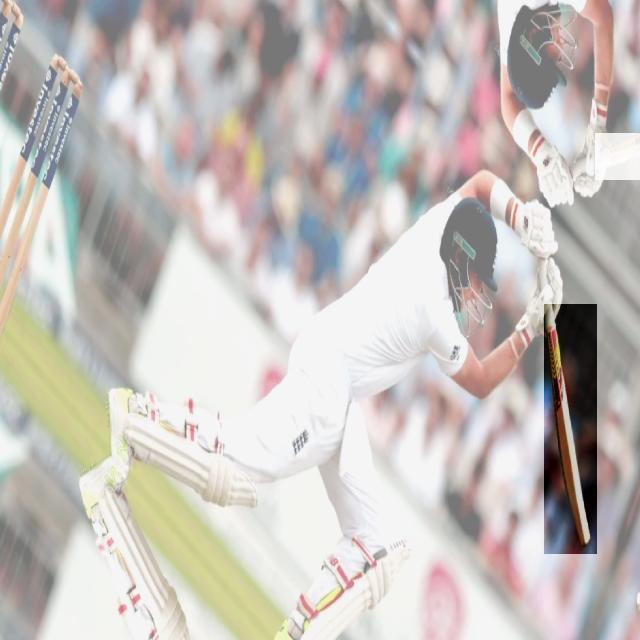bat: (546, 303, 596, 556)
